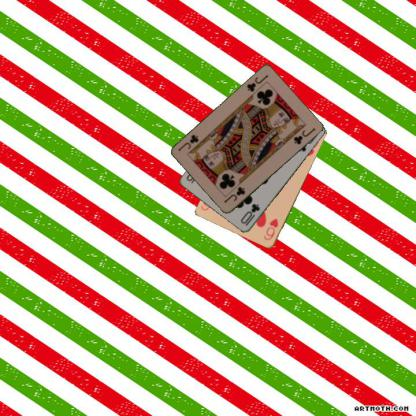10c: (238, 201, 261, 227)
6h: (261, 216, 280, 242)
Jc: (244, 72, 270, 94), (221, 184, 247, 204)
